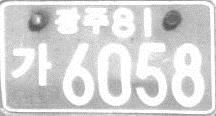0: (96, 41, 132, 106)
1: (141, 6, 157, 40)
5: (135, 42, 169, 106)
6: (61, 40, 95, 106)
8: (170, 41, 206, 107), (110, 7, 135, 41)
가: (11, 40, 54, 87)
광주_O: (54, 5, 112, 36)
